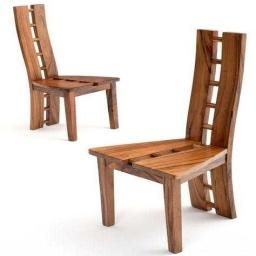Chair: (90, 32, 246, 253), (12, 5, 120, 140)
